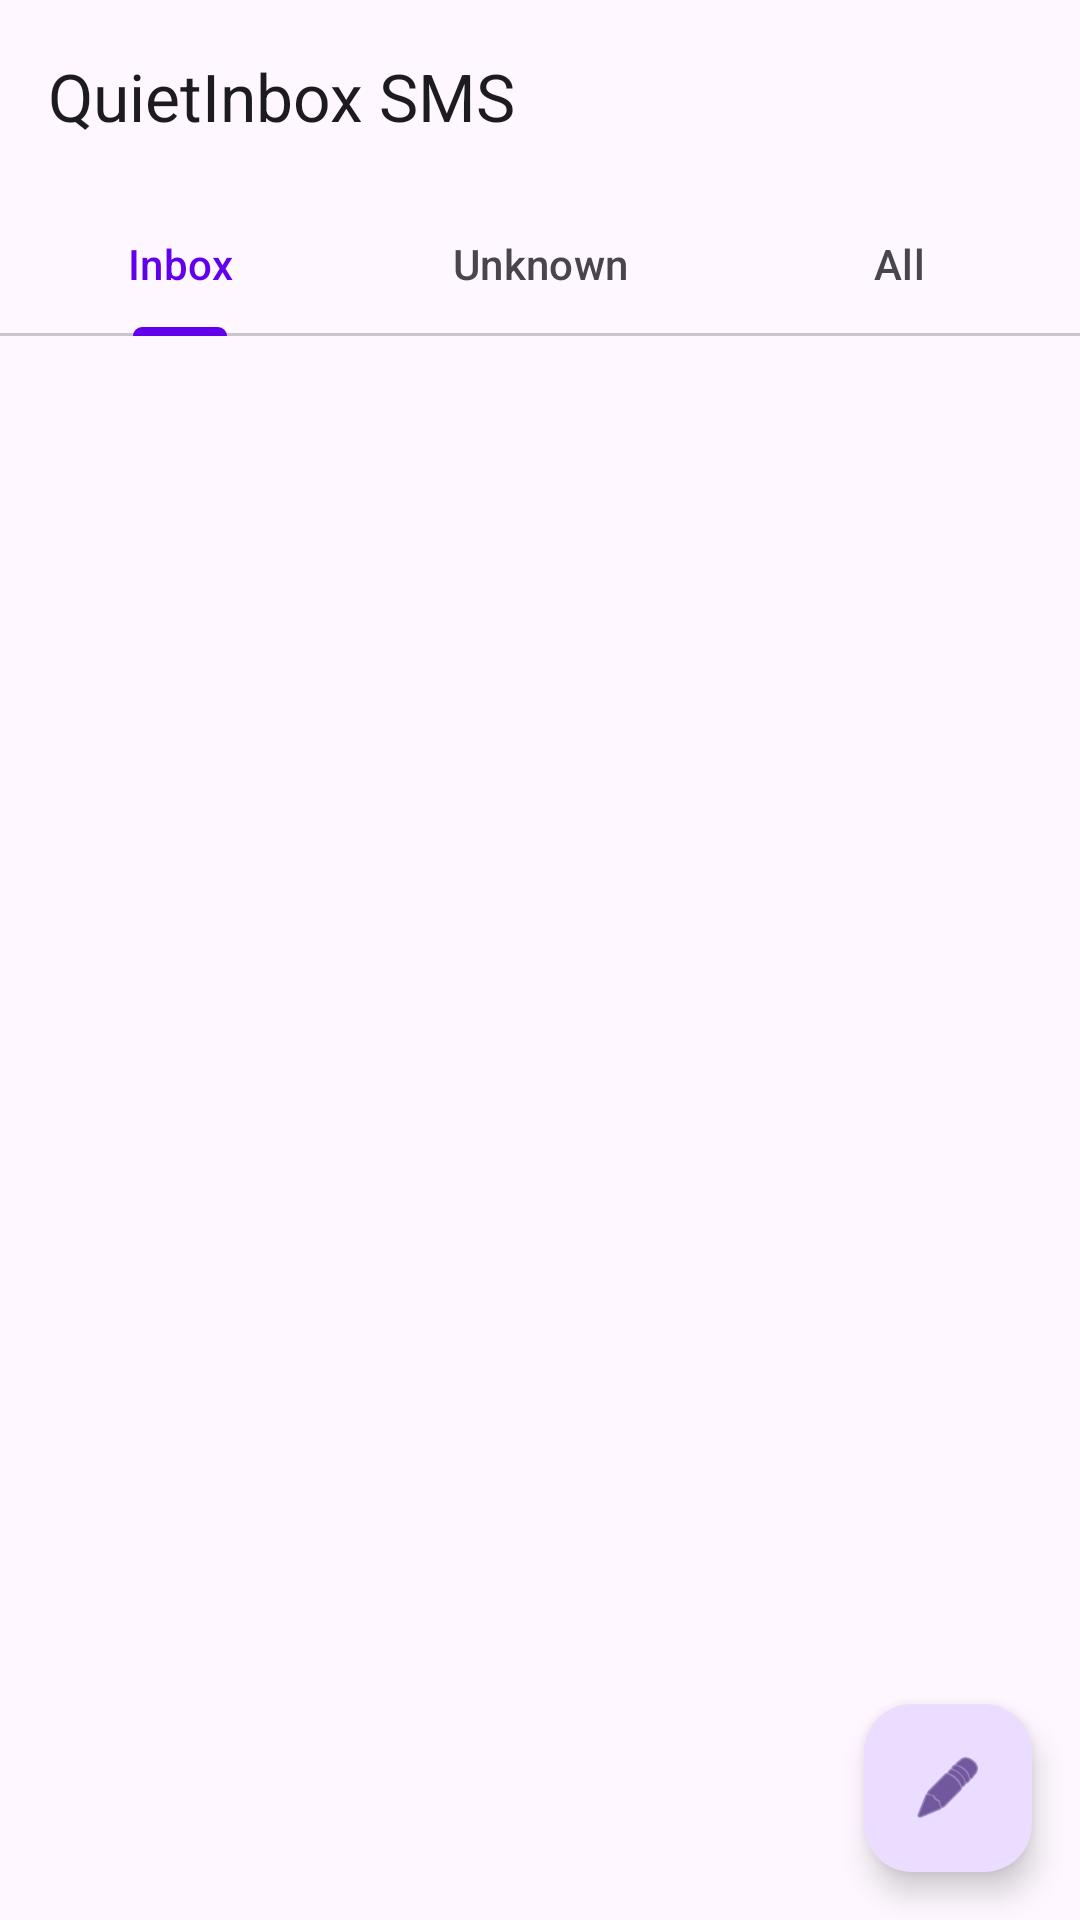

Where to tap for icons on this 1080w x 1920h app screen, as (x,y):
New message: (948,1788)
